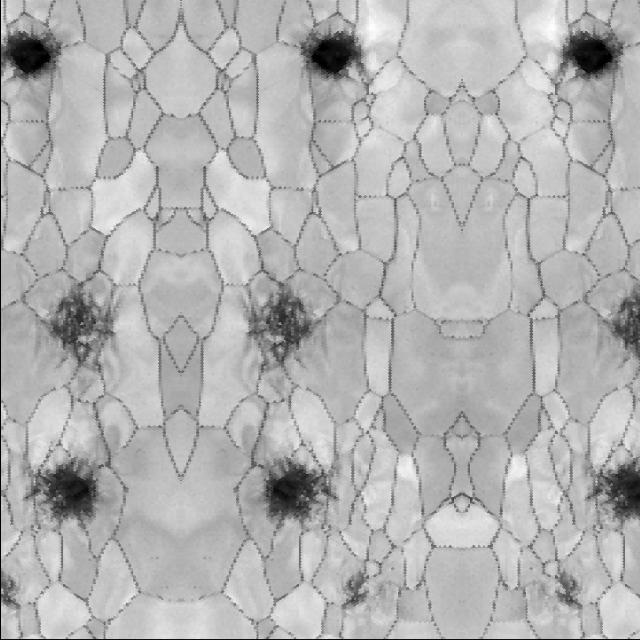good_void: (237, 280, 329, 388), (29, 280, 121, 388), (247, 442, 333, 527), (25, 442, 111, 527), (288, 24, 377, 88), (544, 24, 632, 88), (592, 280, 640, 385), (0, 24, 70, 88), (588, 442, 640, 527), (334, 563, 373, 619), (548, 563, 587, 619), (0, 563, 24, 619), (525, 564, 534, 572), (387, 564, 395, 572)
